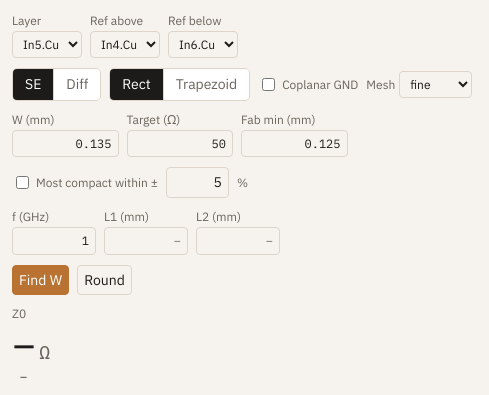
Test: Calculator › button visibility follows the original page
Expected: the button "Find W" is shown, 12,264 -> 69,295
Expected: the button "Find gap" is not shown
Click the button "Diff": (77, 85) 53,69 -> 100,100
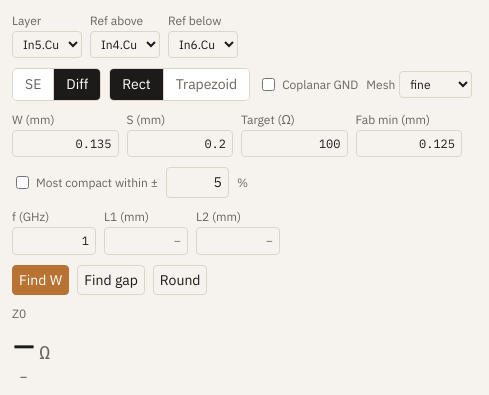
Expected: the button "Find gap" is shown, 77,264 -> 145,295
Expected: the field named "Target impedance" holds "100", 241,130 -> 348,158
Click the checkbox labelled "Most compact within ±": (22, 183) 16,176 -> 29,189
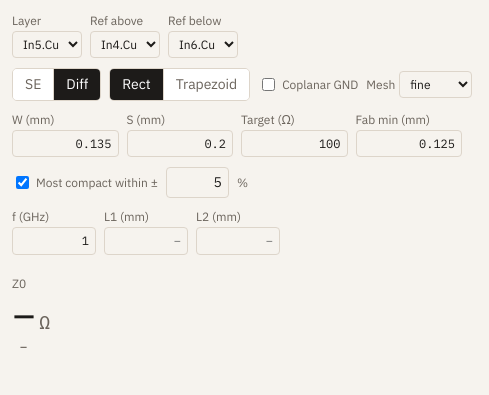
Expected: the button "Find W" is gone
Expected: the button "Find gap" is gone
Expected: the button "Round" is gone
